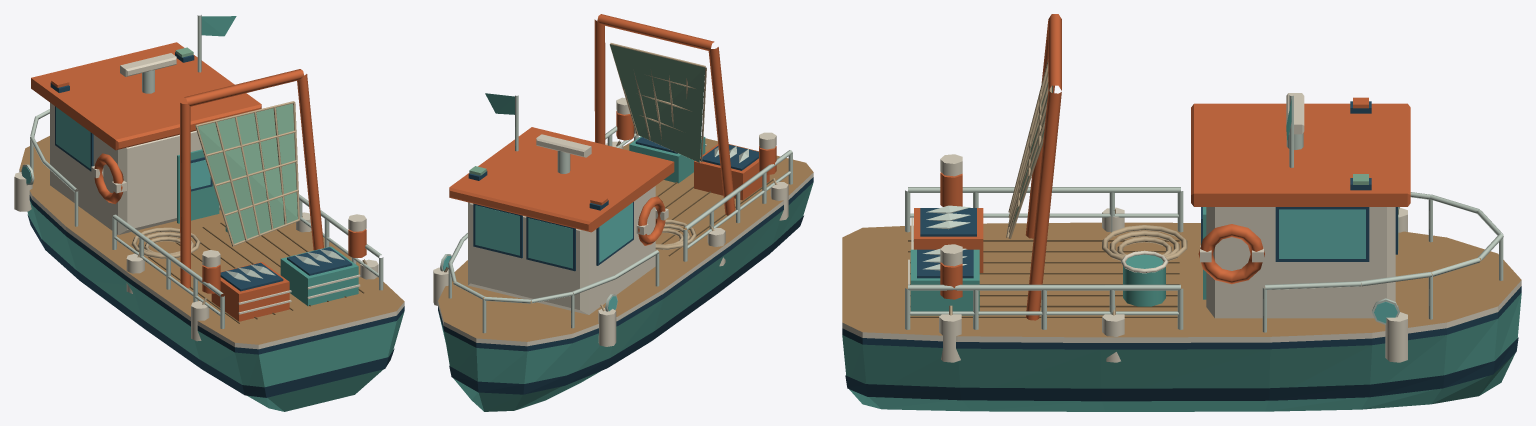
Rendered from fishing.glb.
3 views of the same model, side by side, from view 1: azimuth 30°, elevation 25°; view 2: azimuth 150°, elevation 25°; view 3: azimuth 270°, elevation 25° (orthographic). The views are drawn at different scales.
Parts seen in each view (by area): view 1: static_painted, static_metal, static_dark, static_glass; view 2: static_painted, static_glass, static_metal, static_dark; view 3: static_painted, static_metal, static_glass, static_dark.
Boxes of the visible parts, left/top/right/bottom form: static_painted: left=14, top=16, right=404, bottom=411; static_metal: left=21, top=15, right=383, bottom=328; static_dark: left=50, top=52, right=352, bottom=291; static_glass: left=21, top=107, right=210, bottom=189; static_painted: left=433, top=14, right=813, bottom=411; static_glass: left=443, top=202, right=632, bottom=311; static_metal: left=440, top=95, right=792, bottom=333; static_dark: left=468, top=137, right=758, bottom=271; static_painted: left=842, top=14, right=1521, bottom=411; static_metal: left=905, top=95, right=1503, bottom=332; static_glass: left=1279, top=207, right=1398, bottom=323; static_dark: left=917, top=101, right=1397, bottom=278.
Bounding box in the file's own units: 2.4 × 3.24 × 6.
